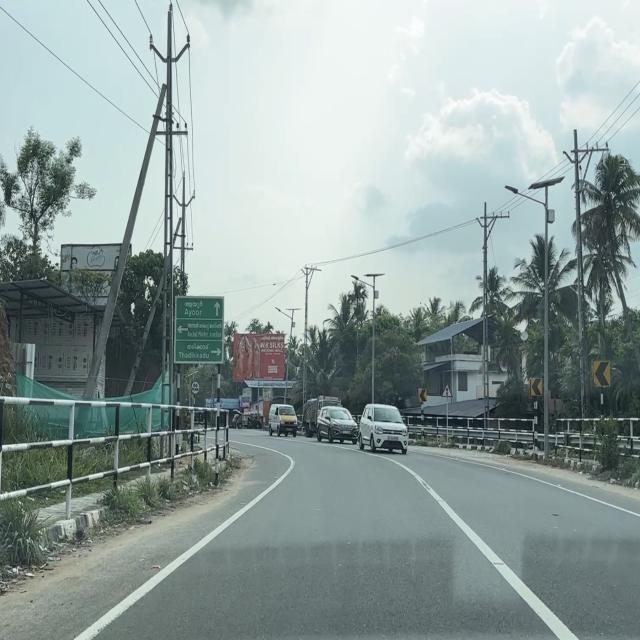GENERAL: (173, 295, 226, 366)
TURN_LEFT: (592, 359, 612, 388), (529, 376, 543, 397), (418, 388, 428, 402)
WARNING: (440, 383, 453, 398)
